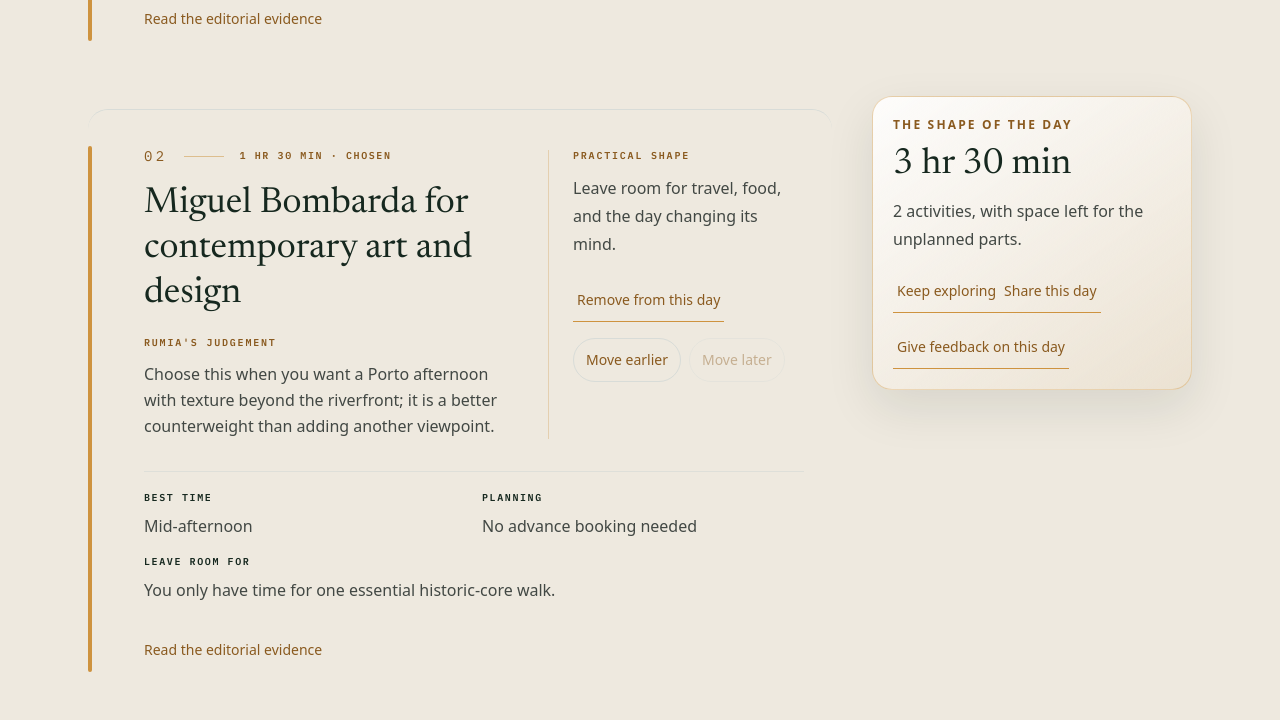
it: ActivityWorkspace › keeps the ordered sequence editable and makes travel and pause room explicit
(page scrolled)
Click the button "Move earlier": (627, 360) [573, 338, 681, 382]
(page scrolled)
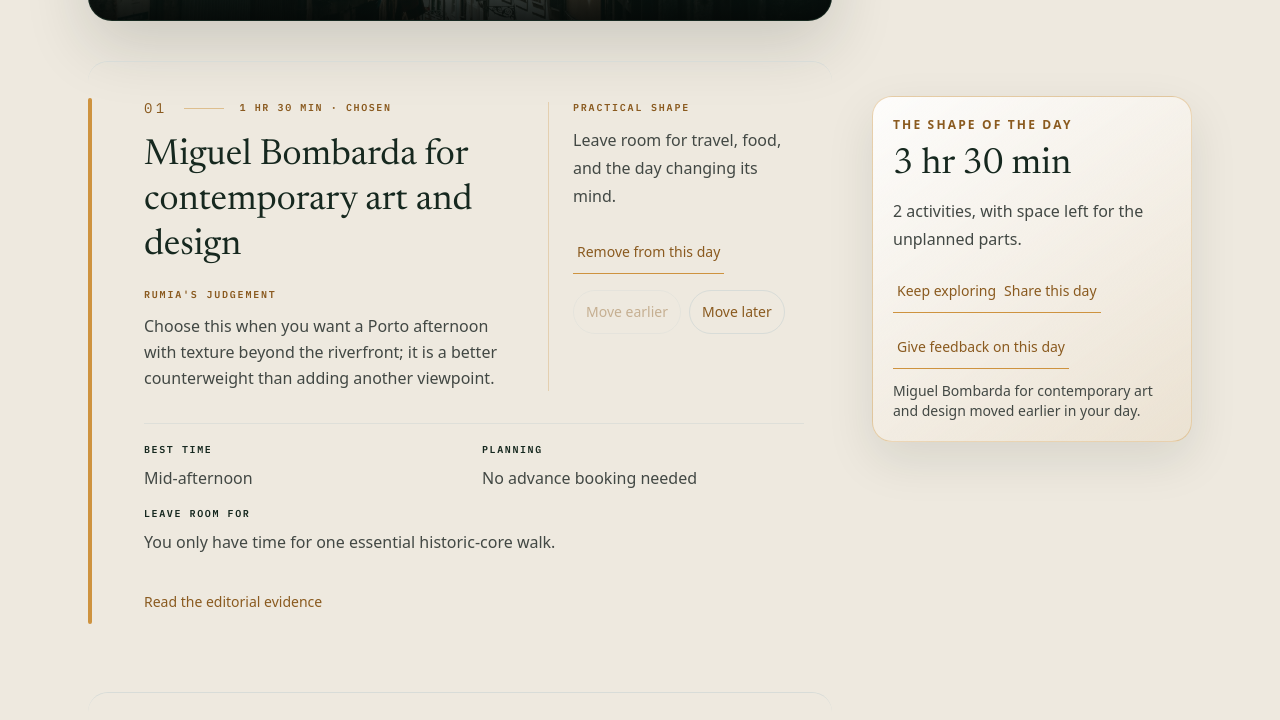
expect the text with test id "workspace-activity-index" reads "01": met, box [144, 99, 168, 117]
expect the element with test id "workspace-activity-card" shows "Miguel Bombarda for contemporary art and design": met, box [144, 138, 472, 264]
